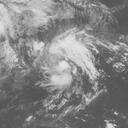cyclone: (41, 32, 95, 93)
